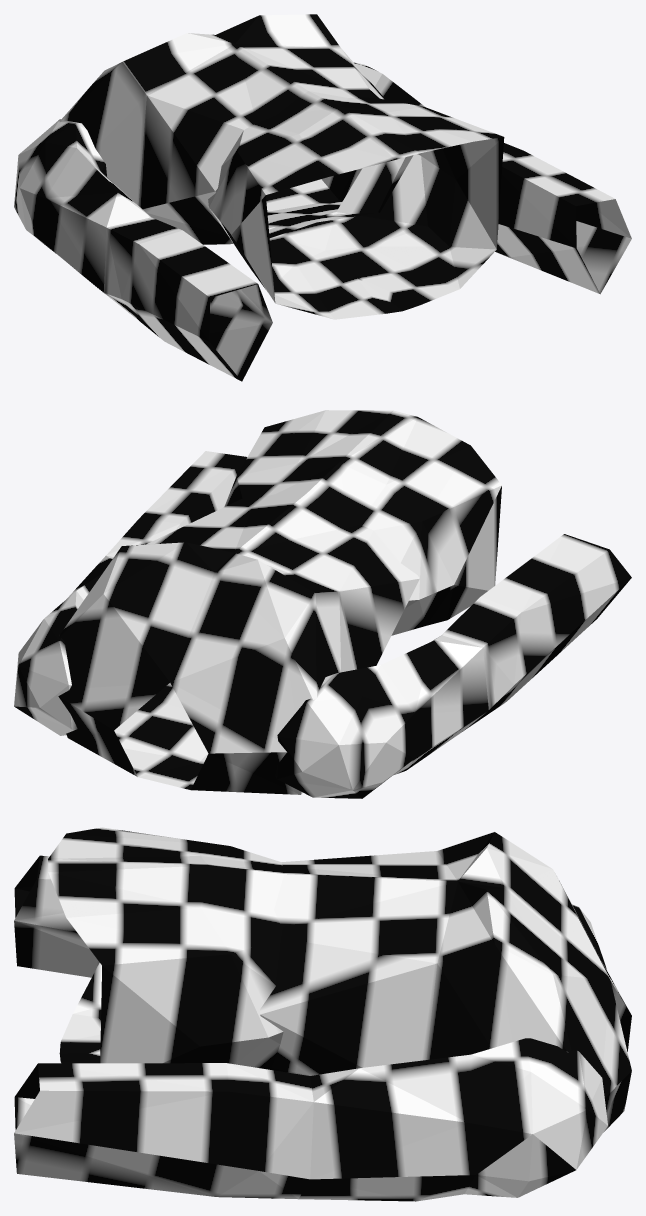
The model's file is initarsh9.dae.
3 renders of one model, top to bottom at view 1: azimuth 30°, elevation 25°; view 2: azimuth 150°, elevation 25°; view 3: azimuth 270°, elevation 25°, orthographic. The views are drawn at different scales.
Parts seen in each view (by area): view 1: armor; view 2: armor; view 3: armor.
Part boxes in pixels (box(x1,y1,x2,y2)): armor: box(14, 14, 631, 381); armor: box(14, 410, 631, 798); armor: box(14, 827, 631, 1201).
Bounding box in the file's own units: 1.59 × 1.69 × 0.7434.
Materials: 1 (1 with a texture image).
